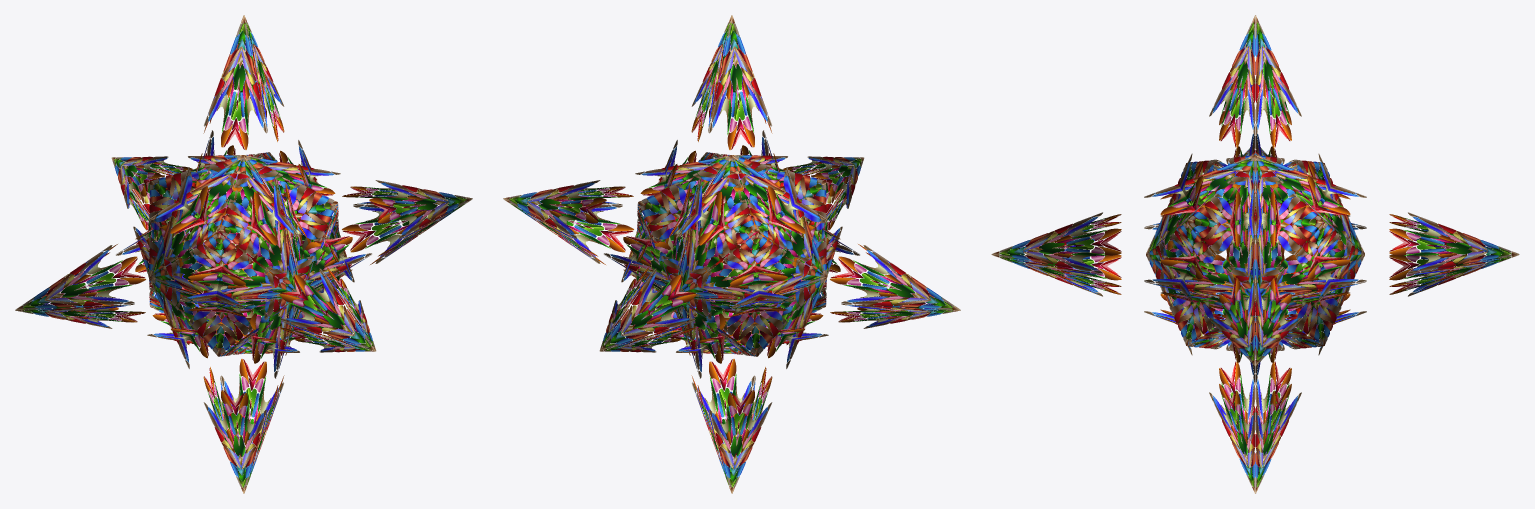
The model's file is 3GreatHexacronicIcositetrahedron.gltf.
The picture shows the model from 3 angles, left to right: view 1: azimuth 30°, elevation 25°; view 2: azimuth 150°, elevation 25°; view 3: azimuth 270°, elevation 25°; orthographic projection.
Parts seen in each view (by area): view 1: GreatHexacronicIcositetrahedron9; view 2: GreatHexacronicIcositetrahedron9; view 3: GreatHexacronicIcositetrahedron9.
Boxes of the visible parts, x1,y1,x2,y2 form: GreatHexacronicIcositetrahedron9: [15, 15, 472, 493]; GreatHexacronicIcositetrahedron9: [503, 15, 960, 493]; GreatHexacronicIcositetrahedron9: [991, 15, 1519, 493].
Size of the model in its own units: 2.83 by 2.83 by 2.83.
1 material, 1 textured.
